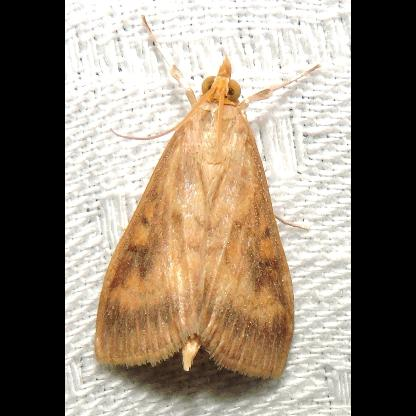Asian Corn Borer Moth: (91, 11, 325, 385)
